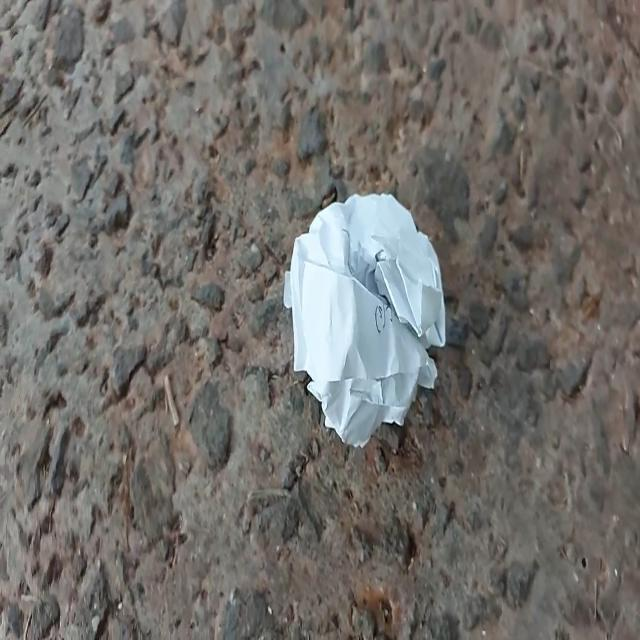paper: (263, 159, 459, 459)
